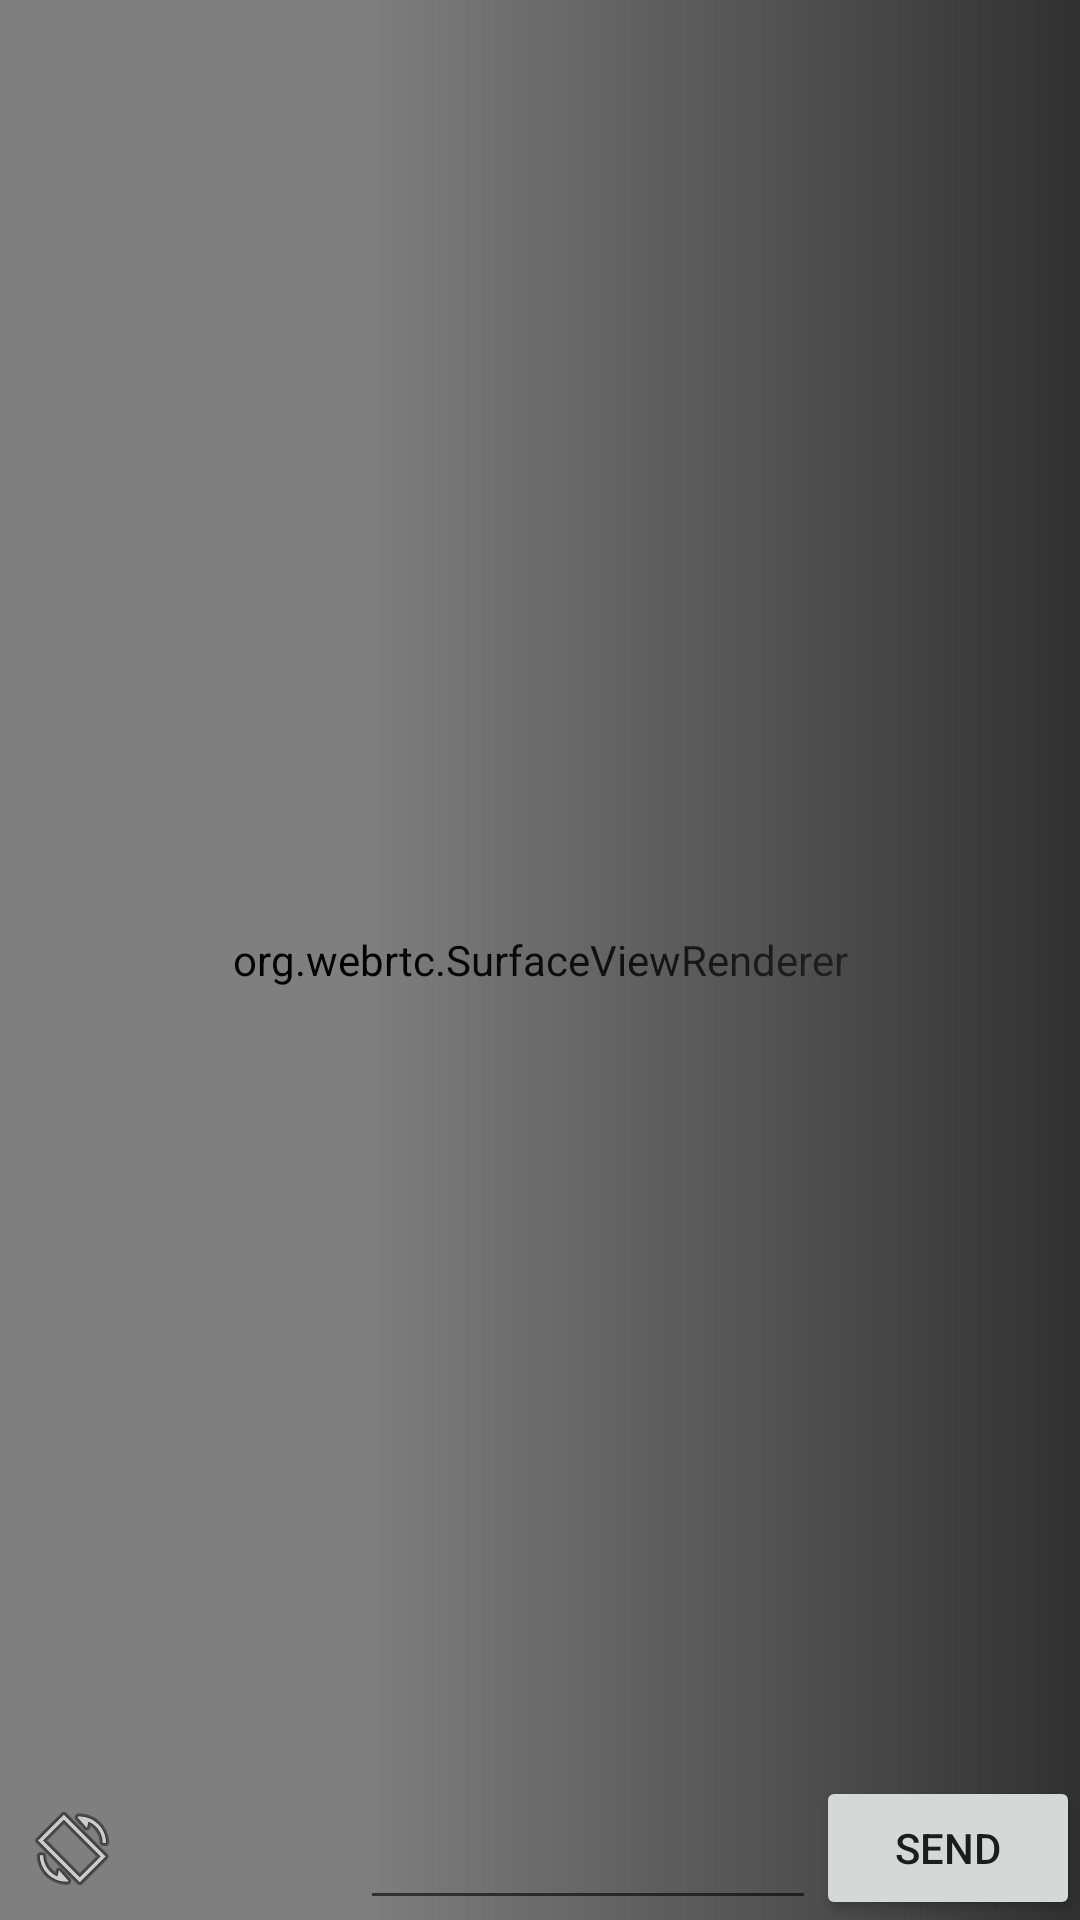

Screen size 1080 x 1920. Icon name, then its center in pixels as (x=x, y=y):
always landscape portrait: (x=72, y=1848)
